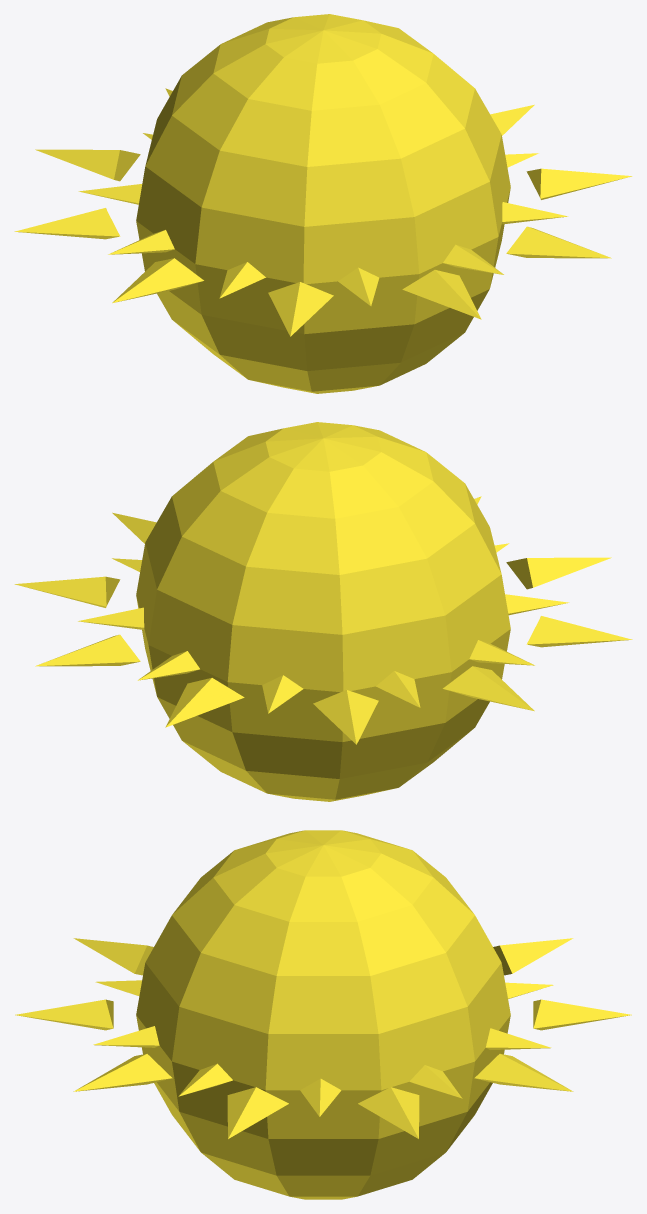
3 views of the same model, one above another, from view 1: azimuth 30°, elevation 25°; view 2: azimuth 150°, elevation 25°; view 3: azimuth 270°, elevation 25° (orthographic). The views are drawn at different scales.
Parts seen in each view (by area): view 1: Sun_01; view 2: Sun_01; view 3: Sun_01.
Part boxes in pixels (box(x1,y1,x2,y2)): Sun_01: box(14, 14, 632, 393); Sun_01: box(14, 422, 632, 801); Sun_01: box(15, 830, 631, 1199).
Bounding box in the file's own units: 503 × 320 × 529.
